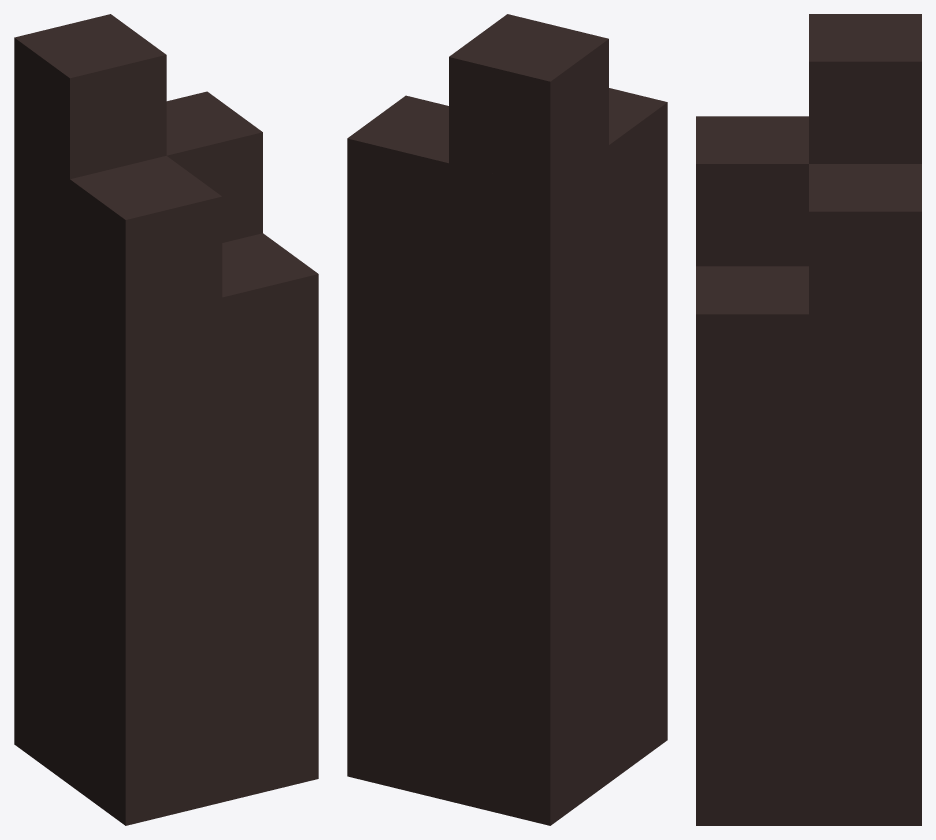
Rendered from fox__leg_br.glb.
3 views of the same model, side by side, from view 1: azimuth 30°, elevation 25°; view 2: azimuth 150°, elevation 25°; view 3: azimuth 270°, elevation 25° (orthographic). The views are drawn at different scales.
Visible parts, largest first — view 1: fox__leg_br; view 2: fox__leg_br; view 3: fox__leg_br.
Boxes of the visible parts, x1,y1,x2,y2 form: fox__leg_br: (14, 14, 318, 825); fox__leg_br: (347, 14, 667, 825); fox__leg_br: (696, 14, 921, 825).
Bounding box in the file's own units: 0.2 × 0.7 × 0.2.
1 material, 1 textured.
